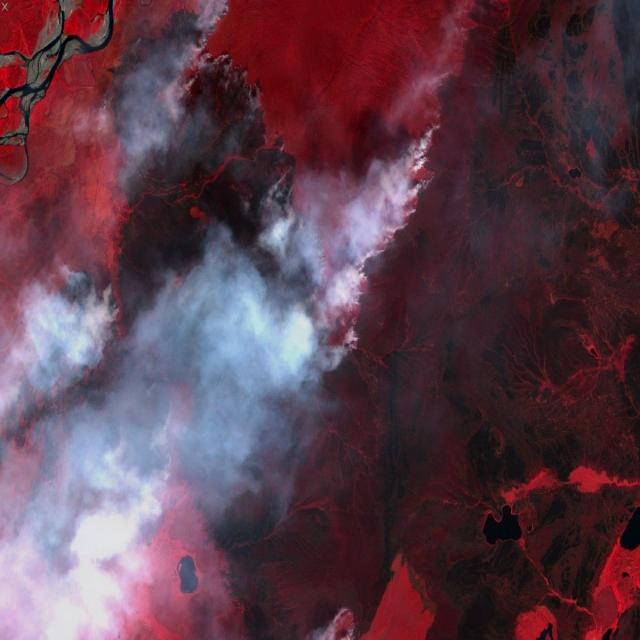fire: (0, 0, 488, 640)
